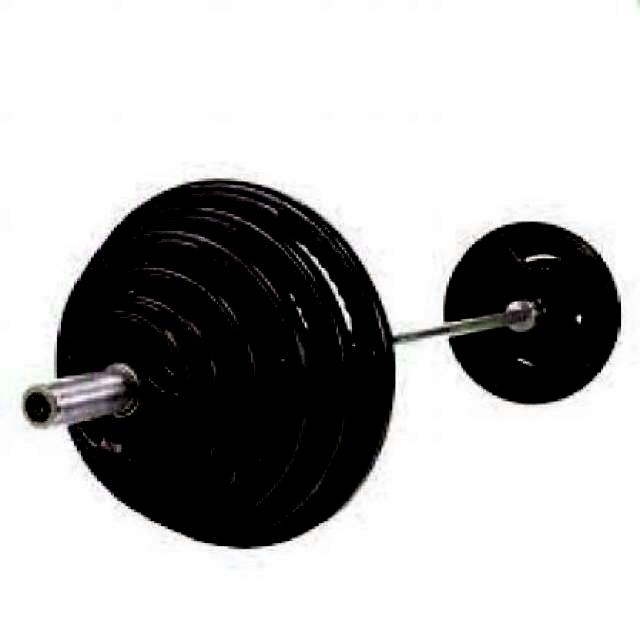barbell: (17, 177, 394, 557)
